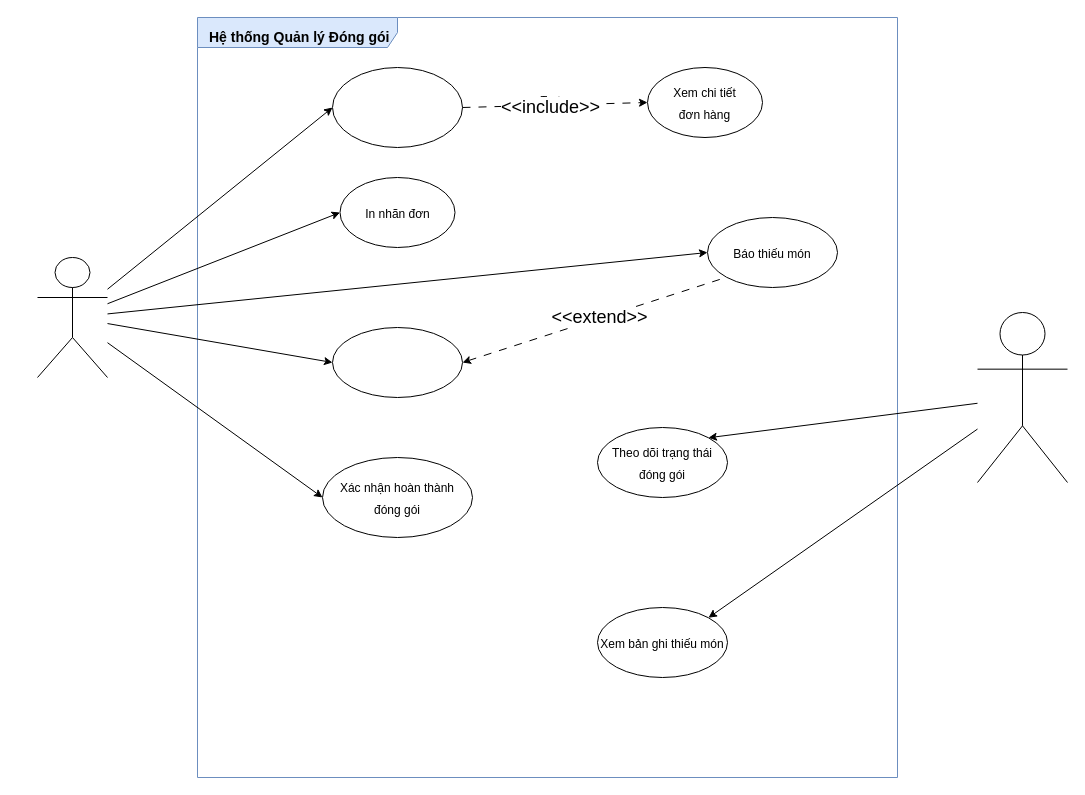
The diagram is 1085 pixels wide and 795 high, and some of its shapes have lost their labels. The shapes that lost their labels are listed below. From the top down, each one's box as (x1, y1, x2, y2) in pixels, then its label:
(332, 66, 462, 148): Xem danh sách đơn cần đóng gói
(36, 256, 108, 378): Nhân viên đóng gói
(332, 326, 462, 398): Xác nhận số lượng món
(976, 312, 1068, 482): Quản lý
